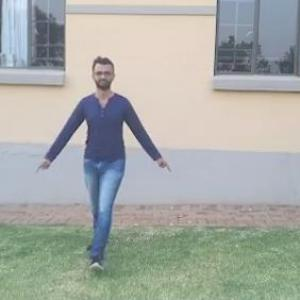land: (45, 63, 165, 245)
